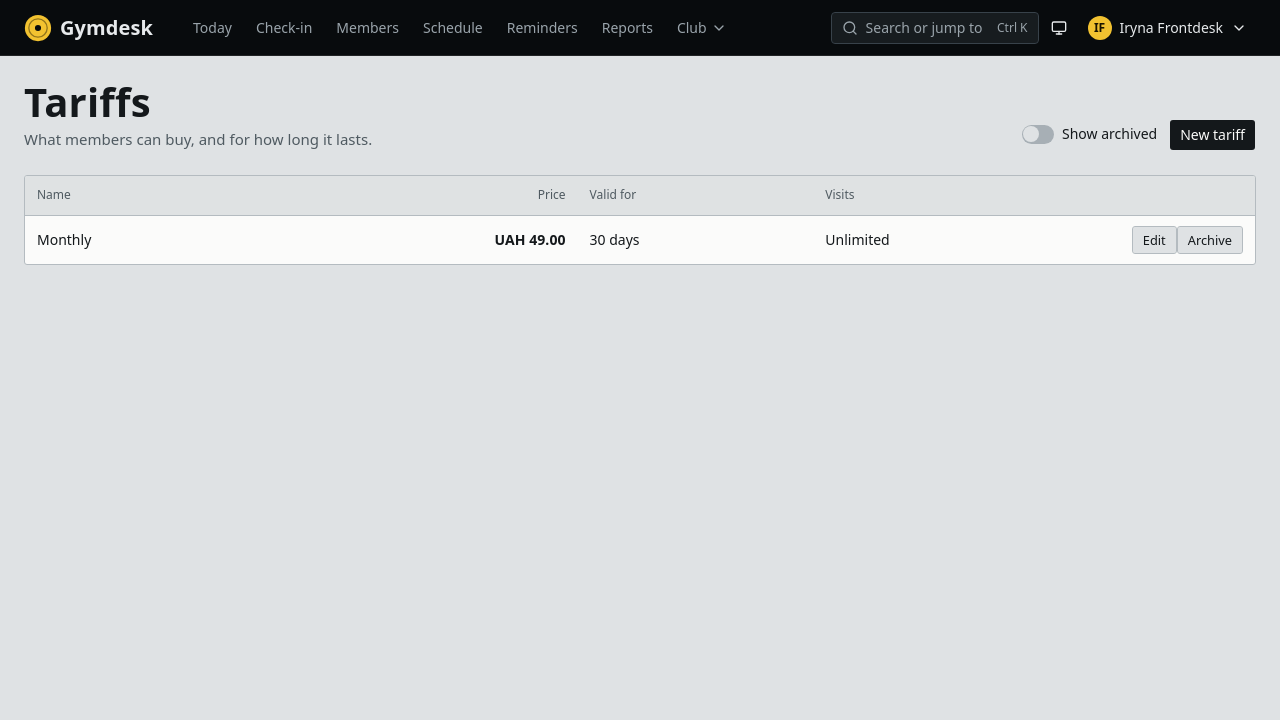
Test: creating a tariff › sends the tariff in cents and shows it in the list
Expected: the heading "Tariffs" is shown, x1=24 y1=74 x2=151 y2=129
Expected: the text "Monthly" is shown, x1=25 y1=216 x2=274 y2=264
Click the button "New tariff". click: (1213, 134)
box: x1=1169 y1=118 x2=1256 y2=150
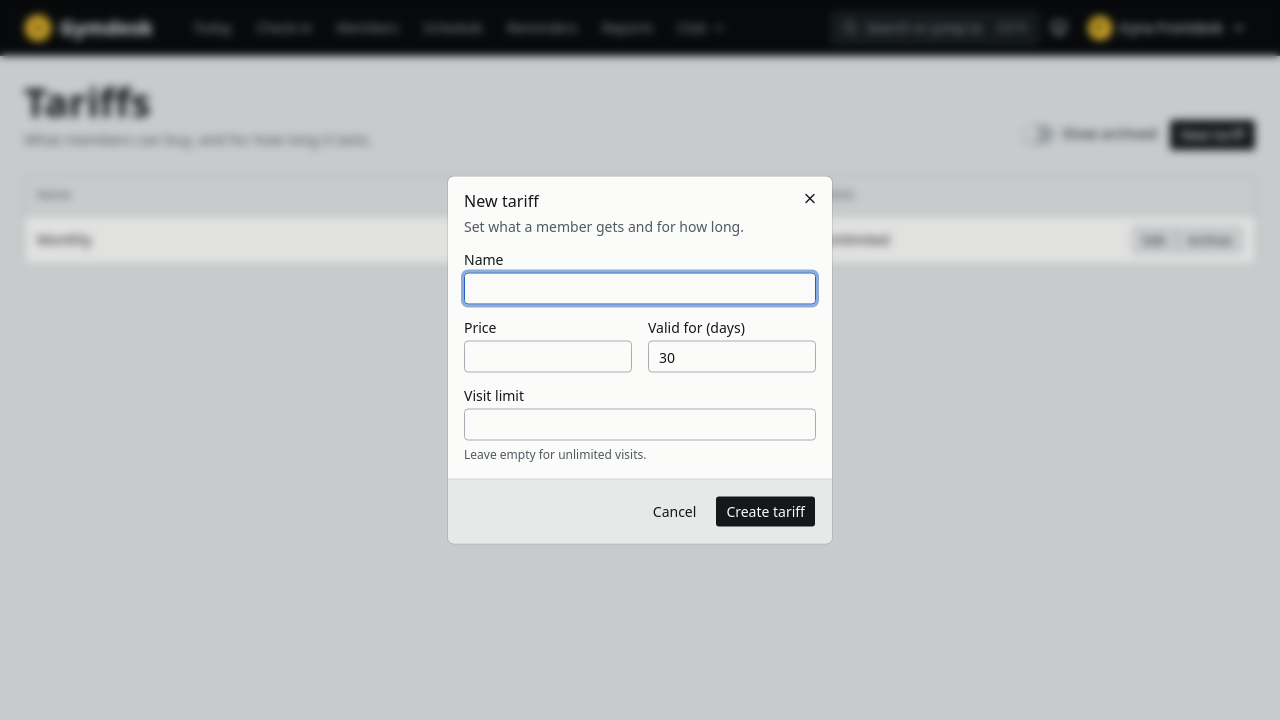
Type "Quarterly" into the field labelled "Name". click: (640, 288)
box: x1=464 y1=272 x2=816 y2=304
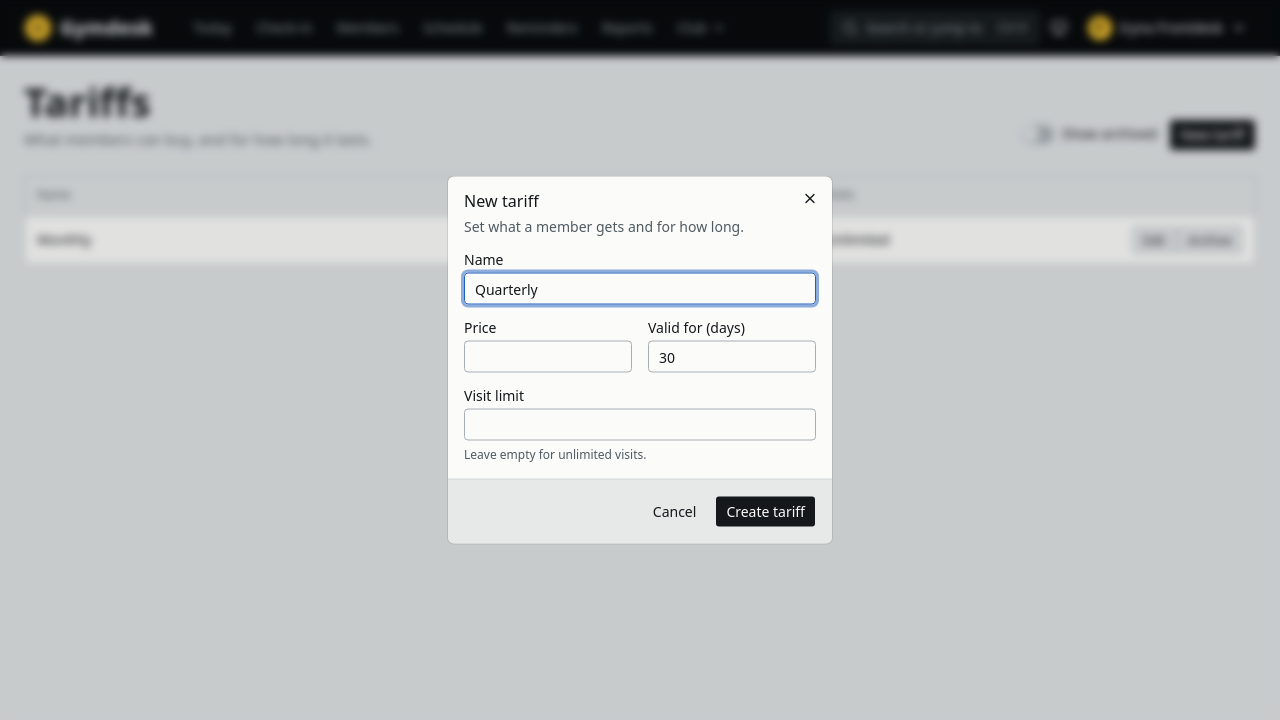
Type "129.90" into the field labelled "Price". click: (548, 356)
box: x1=464 y1=340 x2=632 y2=372
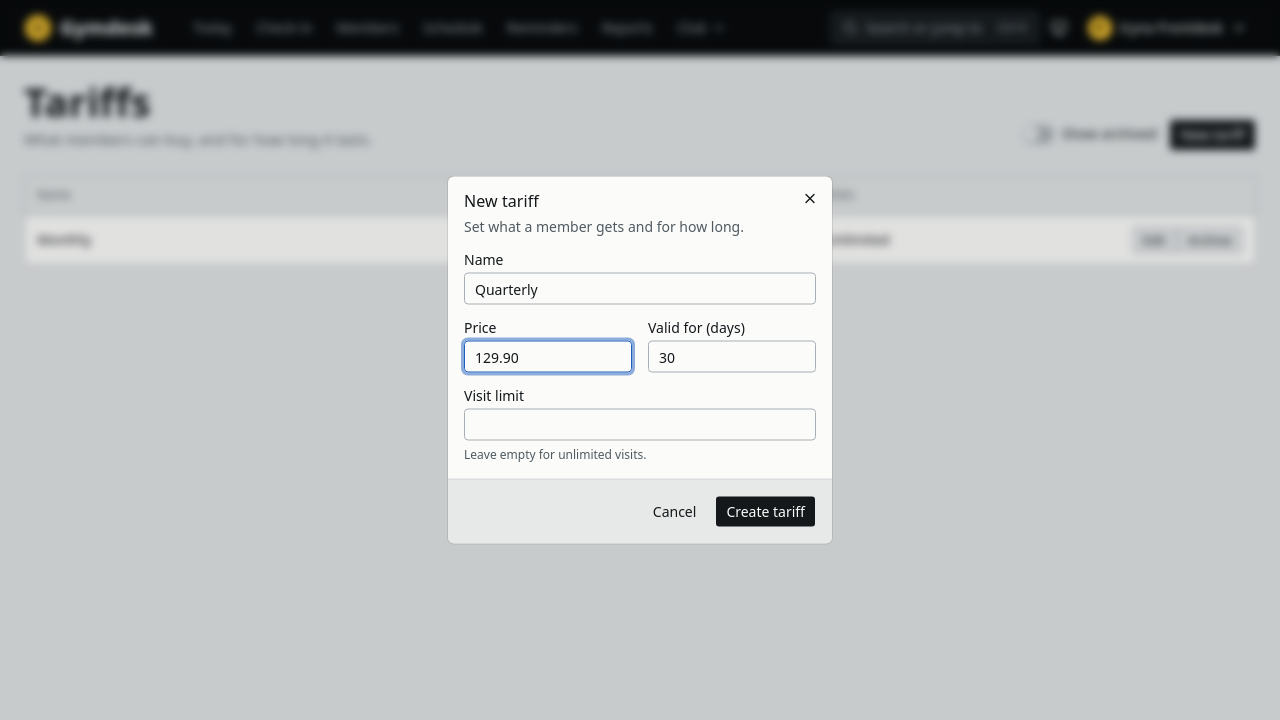
Replace the text in the field labelled "Valid for (days)" with "90". click: (732, 356)
box: x1=648 y1=340 x2=816 y2=372
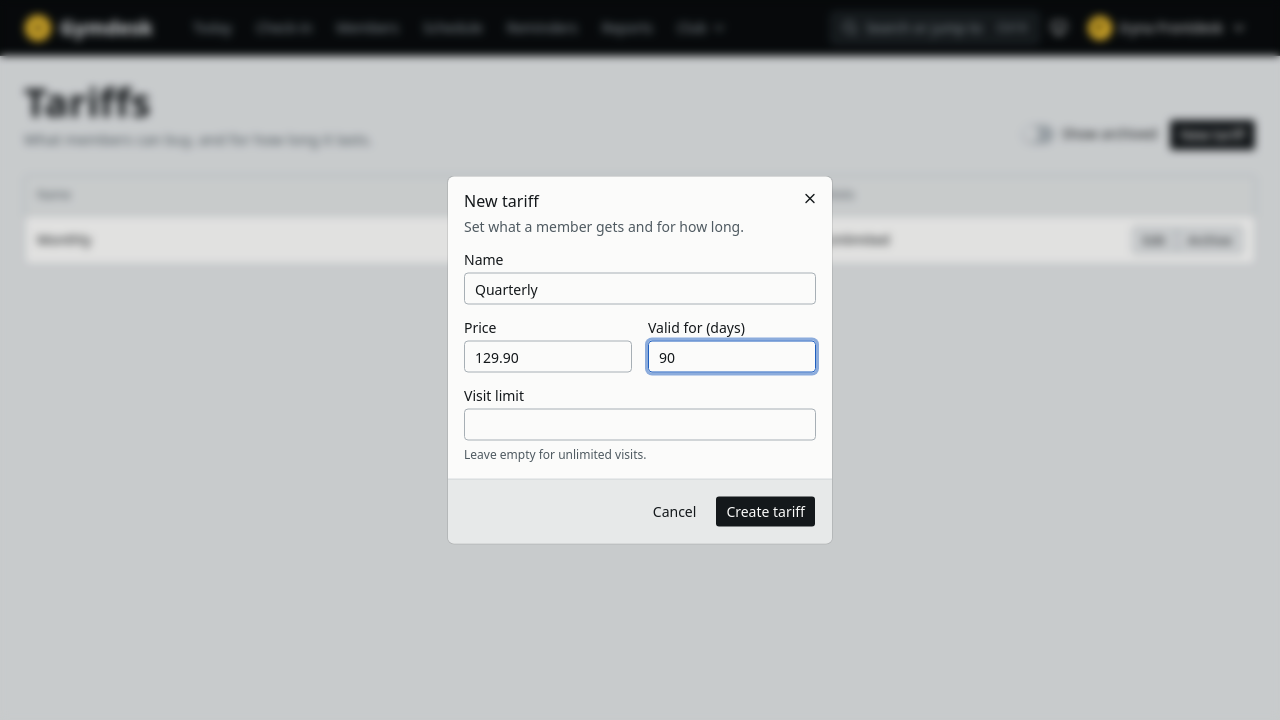
Click the button "Create tariff". click: (766, 512)
box: x1=715 y1=496 x2=816 y2=528
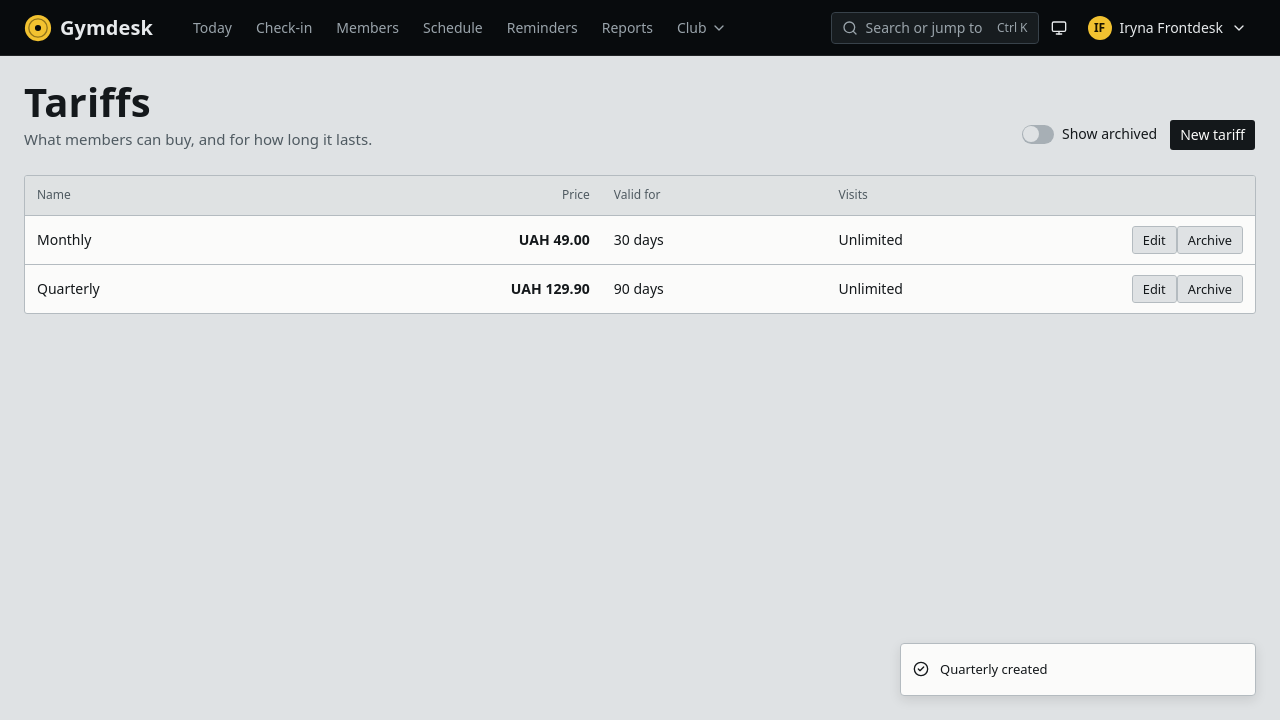
Now the text "Quarterly created" is shown, box x1=940 y1=660 x2=1048 y2=679
Now the row "Quarterly UAH 129.90 90 days Unlimited Edit Archive" is shown, box x1=25 y1=264 x2=1255 y2=313
Now the dialog is gone
